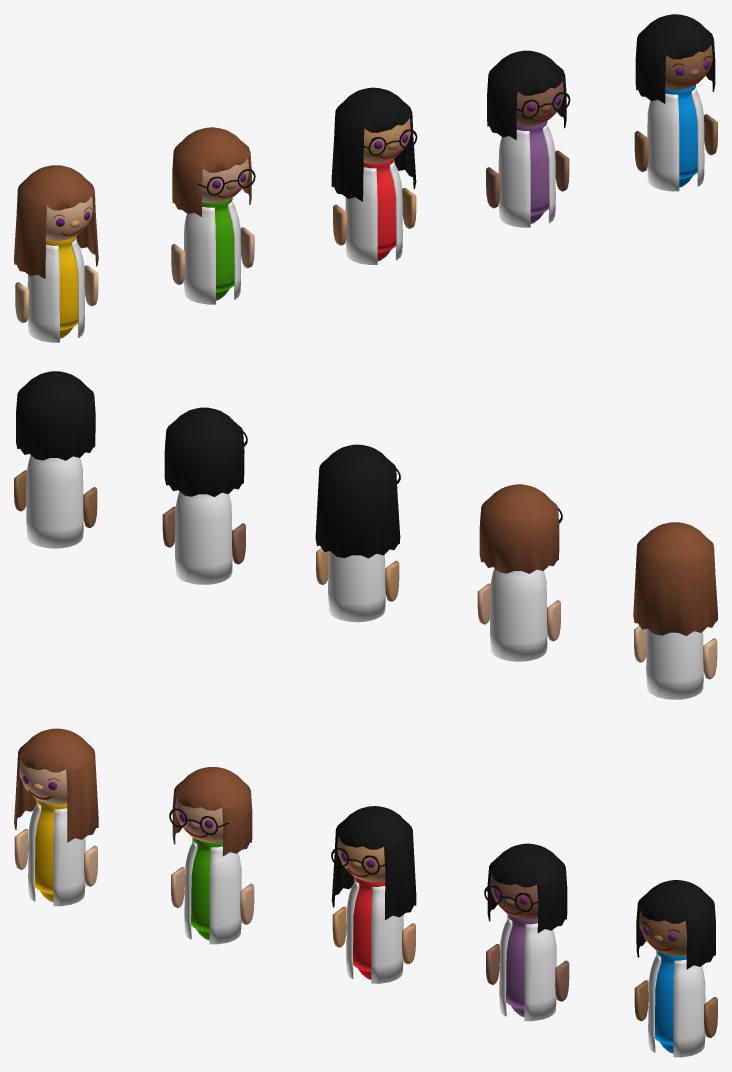
The model's file is Cientistas.fbx.
The picture shows the model from 3 angles, top to bottom: view 1: azimuth 30°, elevation 25°; view 2: azimuth 150°, elevation 25°; view 3: azimuth 330°, elevation 25°; orthographic projection.
Visible parts, largest first — view 1: Cientista F 3, Cientista F 1, Cientista F 4, Cientista F 5, Cientista F 2; view 2: Cientista F 3, Cientista F 1, Cientista F 2, Cientista F 4, Cientista F 5; view 3: Cientista F 3, Cientista F 1, Cientista F 4, Cientista F 2, Cientista F 5.
Boxes of the visible parts, x1=… form: Cientista F 3: x1=331, y1=87, x2=417, y2=264; Cientista F 1: x1=14, y1=165, x2=98, y2=342; Cientista F 4: x1=486, y1=50, x2=570, y2=227; Cientista F 5: x1=634, y1=14, x2=717, y2=191; Cientista F 2: x1=171, y1=127, x2=255, y2=304; Cientista F 3: x1=315, y1=444, x2=400, y2=622; Cientista F 1: x1=633, y1=522, x2=717, y2=699; Cientista F 2: x1=477, y1=484, x2=562, y2=661; Cientista F 4: x1=162, y1=407, x2=247, y2=584; Cientista F 5: x1=14, y1=371, x2=97, y2=548; Cientista F 3: x1=331, y1=806, x2=416, y2=983; Cientista F 1: x1=14, y1=728, x2=98, y2=906; Cientista F 4: x1=484, y1=843, x2=569, y2=1021; Cientista F 2: x1=169, y1=767, x2=254, y2=944; Cientista F 5: x1=634, y1=880, x2=717, y2=1057.
Bounding box in the file's own units: 2565 × 598 × 263.
Materials: 1 (1 with a texture image).
